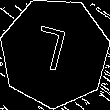L_S: (33, 24, 76, 81)
